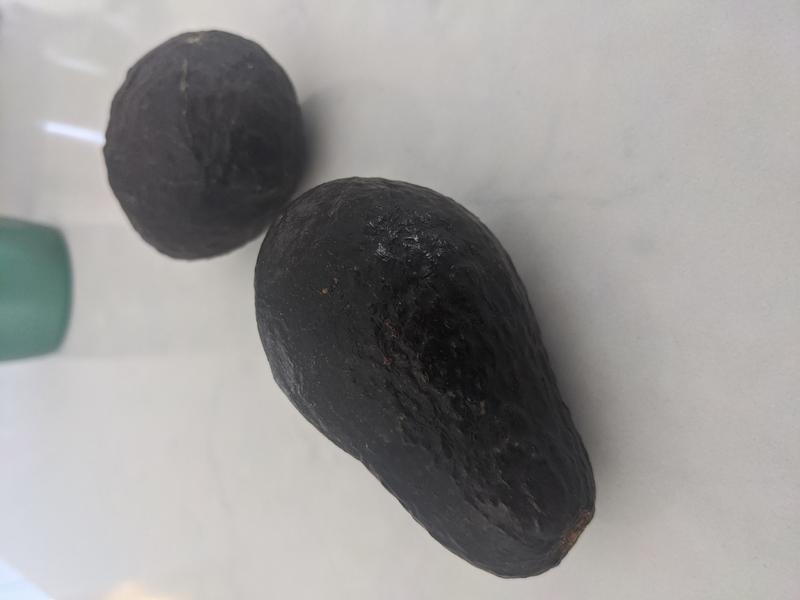avocado: (254, 176, 597, 580), (102, 30, 307, 262)
